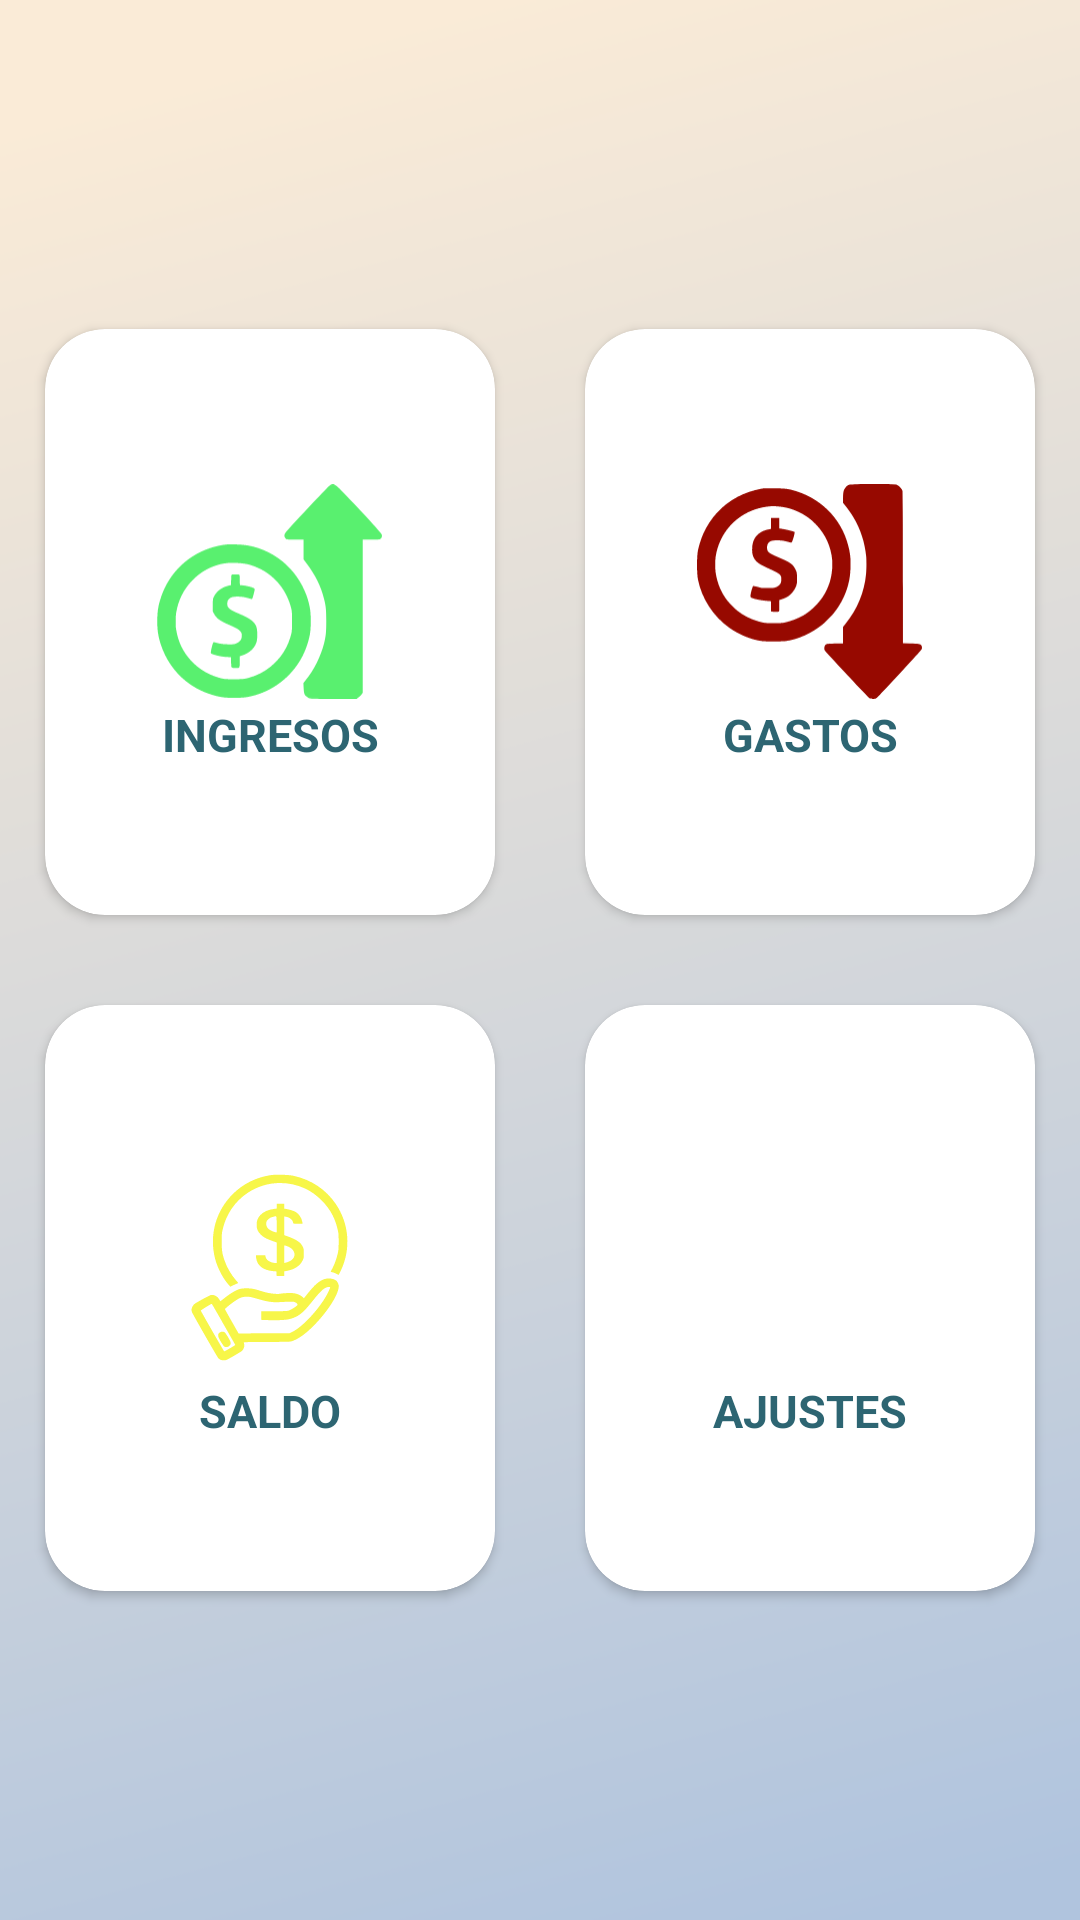

Where icons sit on this 1080*1920 app screen, as (x1,y1,x2,y2):
saved money: (191,1174,348,1361)
